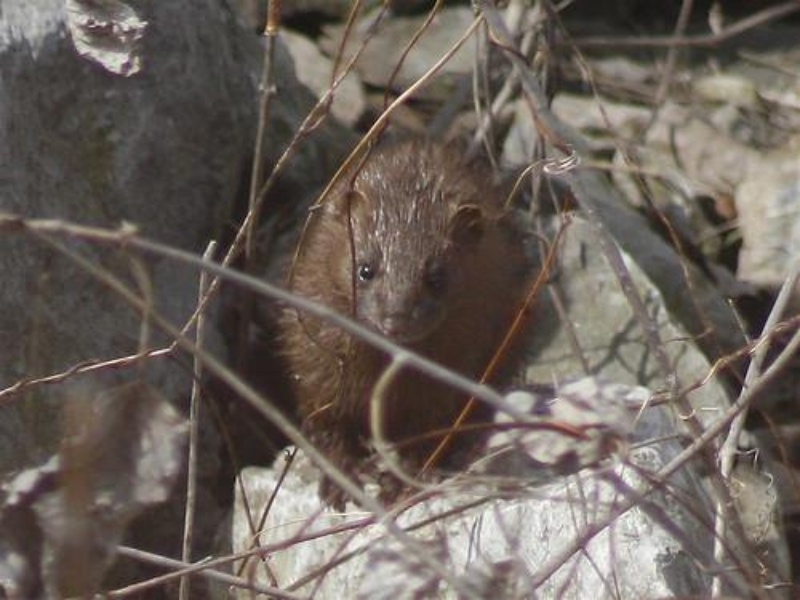minkish: (279, 132, 540, 528)
